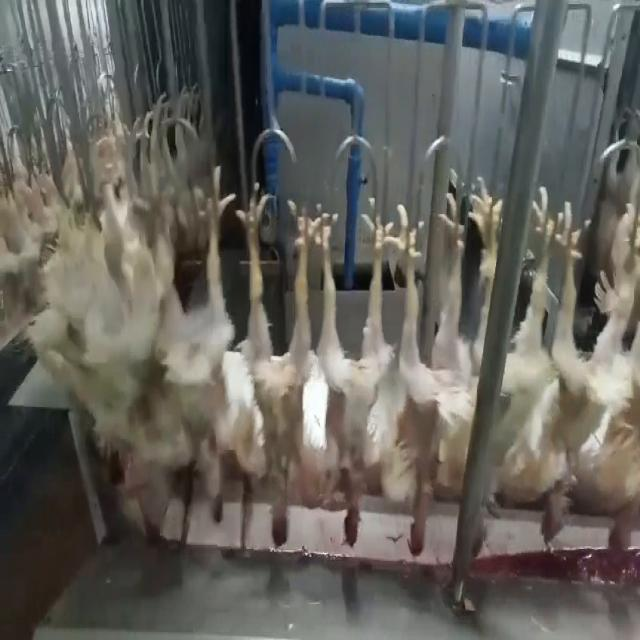chicken: (382, 185, 476, 560), (510, 181, 599, 548), (312, 197, 394, 548), (242, 197, 316, 553), (174, 154, 237, 527), (121, 158, 174, 525), (600, 195, 640, 566), (72, 180, 124, 434)
